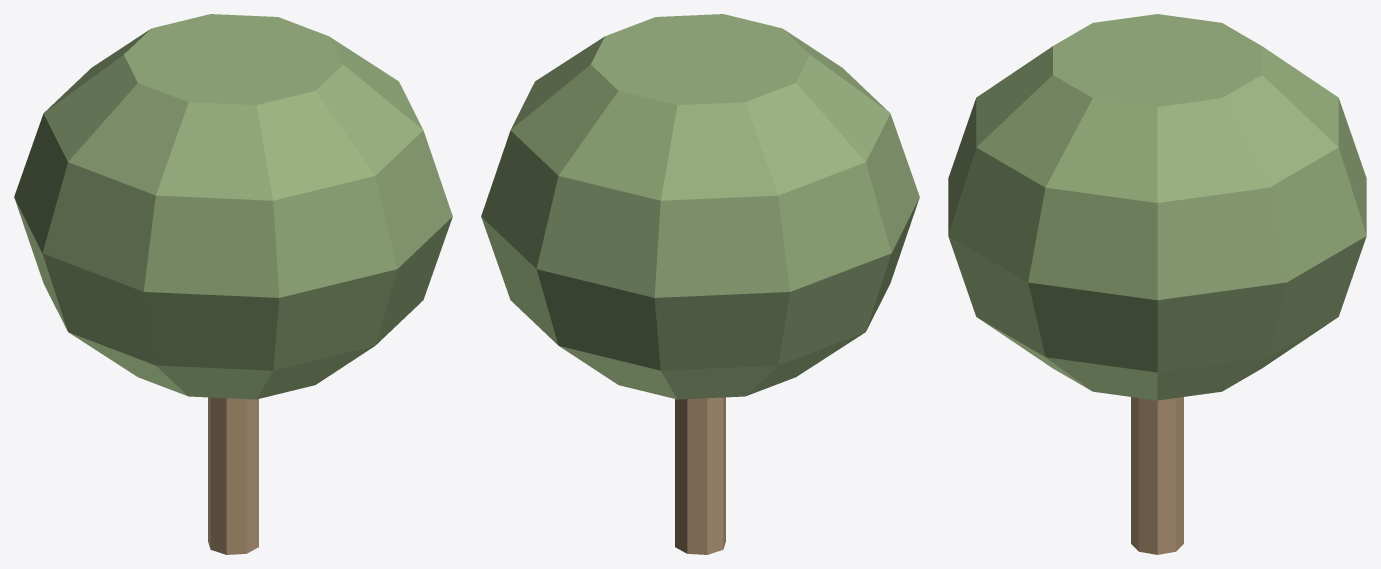
The model's file is oak-arch-12.glb.
3 renders of one model, left to right at view 1: azimuth 30°, elevation 25°; view 2: azimuth 150°, elevation 25°; view 3: azimuth 270°, elevation 25°, orthographic.
Parts seen in each view (by area): view 1: living roof, timber; view 2: living roof, timber; view 3: living roof, timber.
Part boxes in pixels (x1,y1,x2,y2): living roof: (14, 14, 452, 399); timber: (208, 397, 258, 554); living roof: (481, 14, 919, 399); timber: (675, 397, 725, 554); living roof: (948, 14, 1366, 400); timber: (1131, 397, 1183, 554).
Size of the model in its own units: 13.47 by 17.1 by 12.82.
